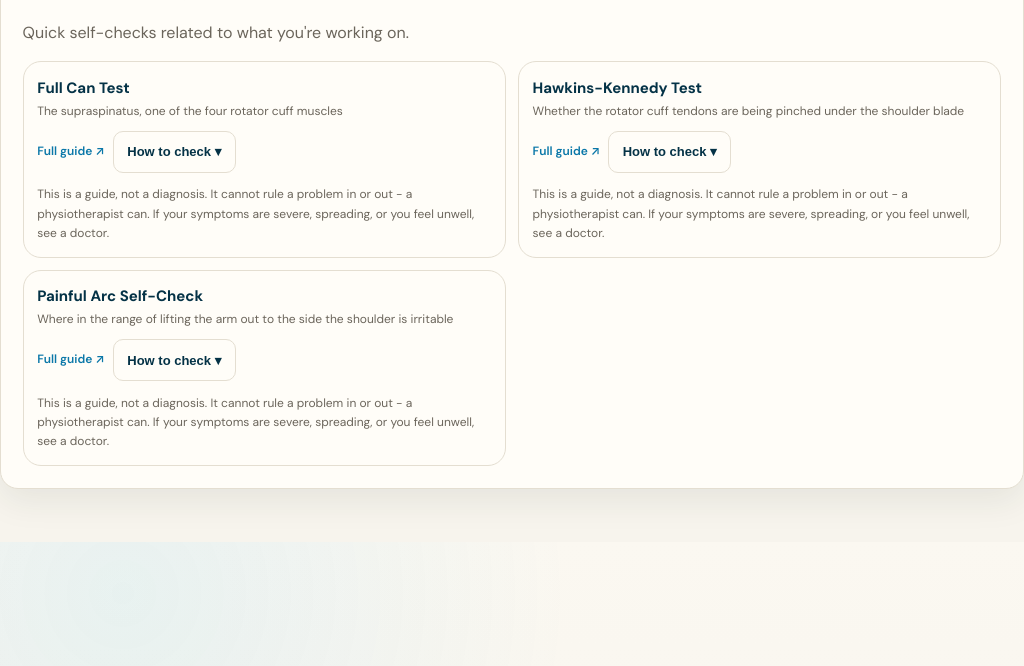
PatientSelfTests › expands to show steps and results on "How to check"
Expected: the text "Likely normal" is not shown
Click the button "How to check ▾" below "Full Can Test" at (174, 152), box [113,131,236,173]
(page scrolled)
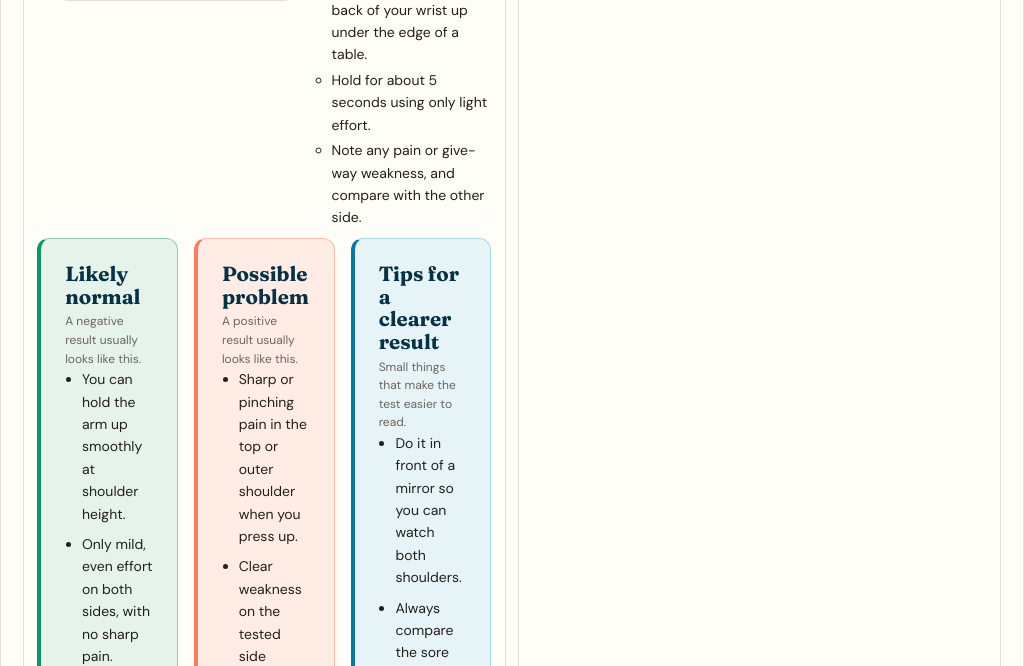
Expected: the heading "Likely normal" is shown, [65,263,153,308]
